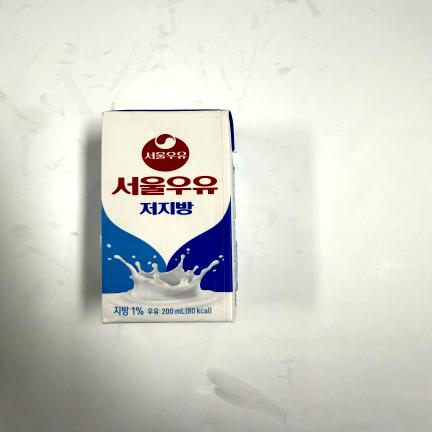milk_blue: (100, 108, 234, 324)
